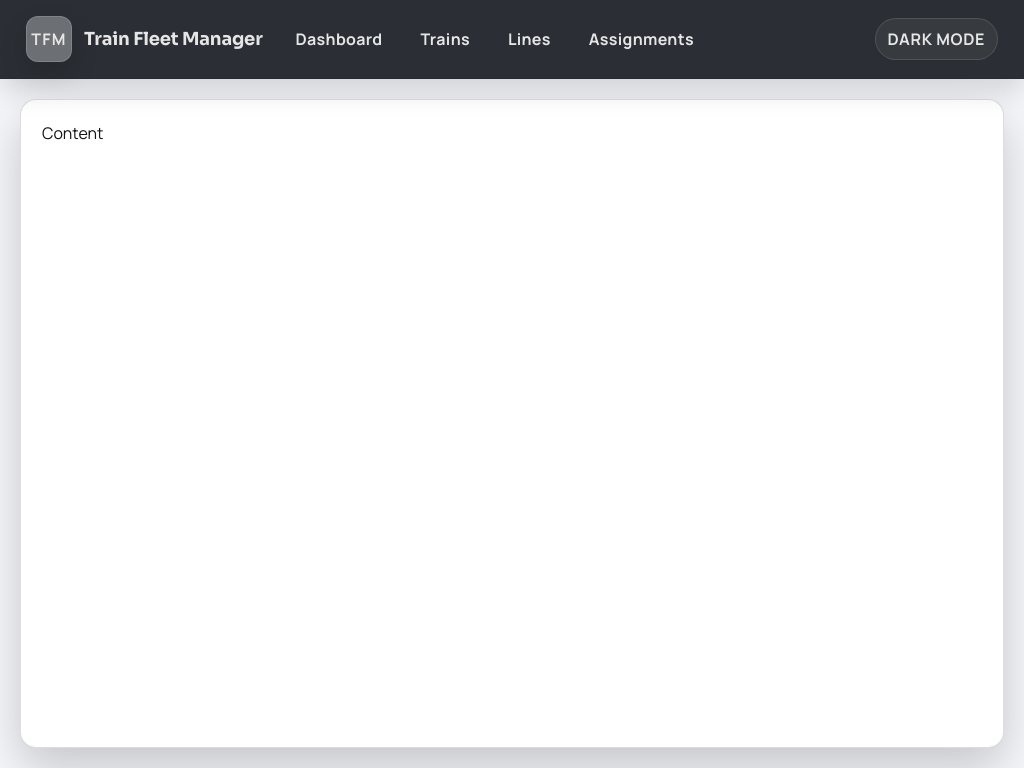
Test: Layout › toggles theme and persists preference
Click the button "Dark mode" at [936, 39], box [875,18,998,60]
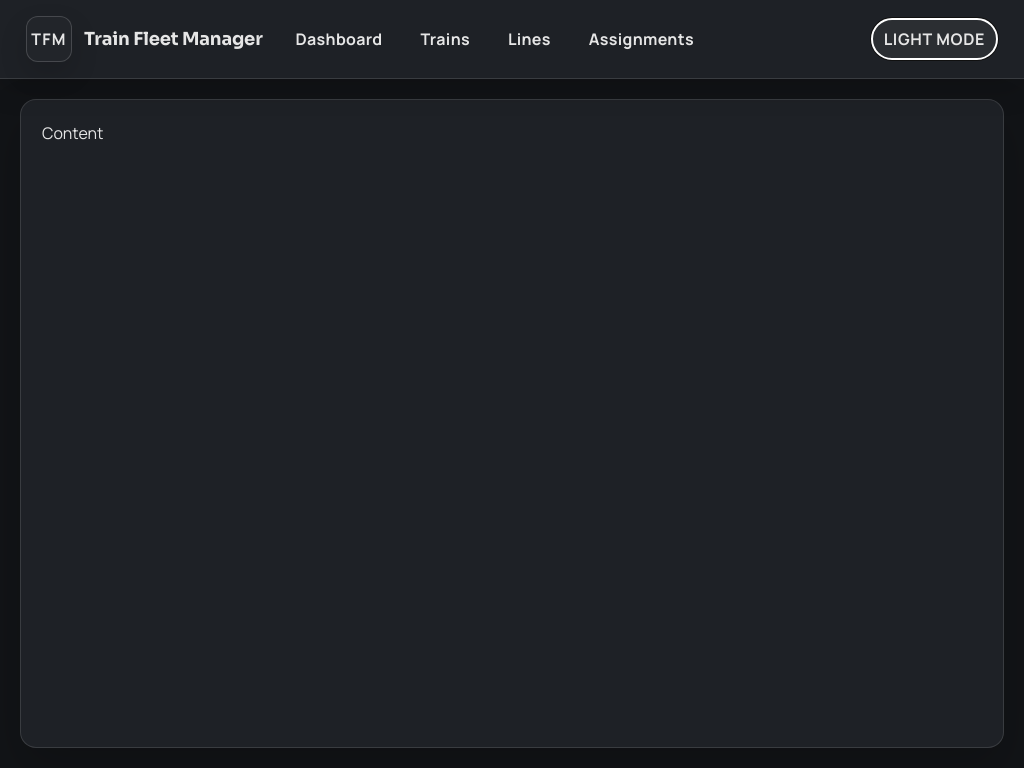
Now the button "Light mode" is shown, box [871,18,998,60]
